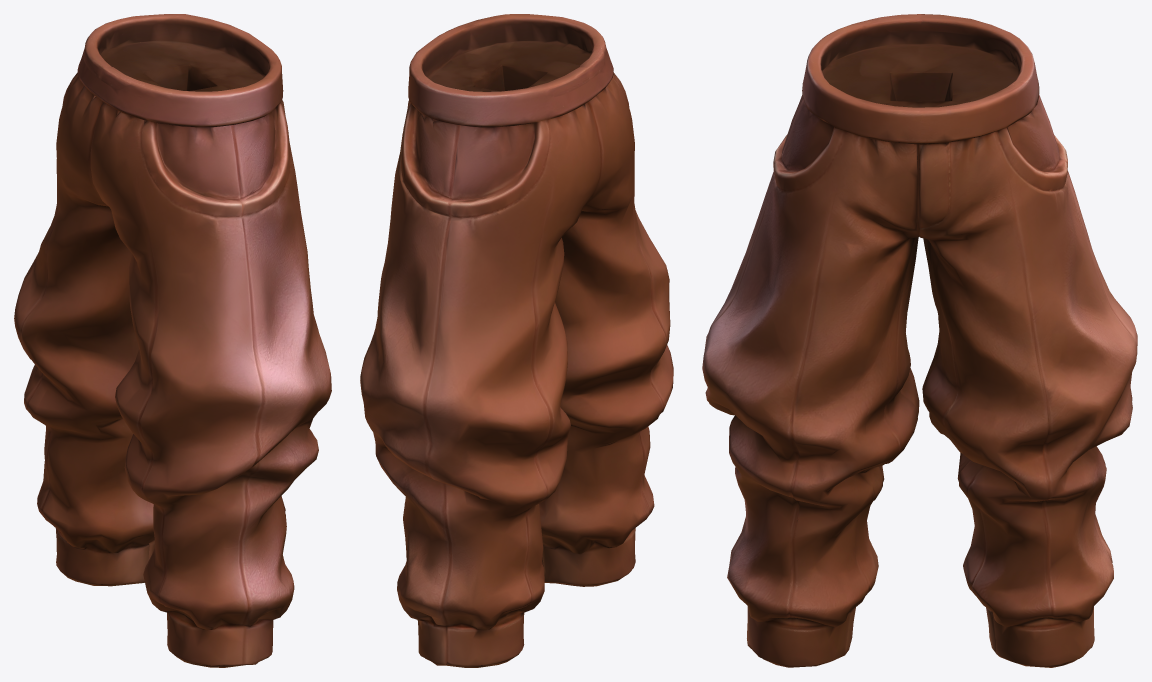
Rendered from Male_Novice_Pants_V1.glb.
3 renders of one model, left to right at view 1: azimuth 30°, elevation 25°; view 2: azimuth 150°, elevation 25°; view 3: azimuth 270°, elevation 25°, orthographic. The views are drawn at different scales.
Parts seen in each view (by area): view 1: tripo_node_f74af86a-08cc-47cb-a0a5-3a5e418f33a6; view 2: tripo_node_f74af86a-08cc-47cb-a0a5-3a5e418f33a6; view 3: tripo_node_f74af86a-08cc-47cb-a0a5-3a5e418f33a6.
Boxes of the visible parts, left/top/right/bottom form: tripo_node_f74af86a-08cc-47cb-a0a5-3a5e418f33a6: left=14, top=14, right=331, bottom=667; tripo_node_f74af86a-08cc-47cb-a0a5-3a5e418f33a6: left=360, top=14, right=673, bottom=667; tripo_node_f74af86a-08cc-47cb-a0a5-3a5e418f33a6: left=702, top=14, right=1137, bottom=667.
Bounding box in the file's own units: 0.3409 × 0.9799 × 0.6435.
Materials: 1 (1 with a texture image).
